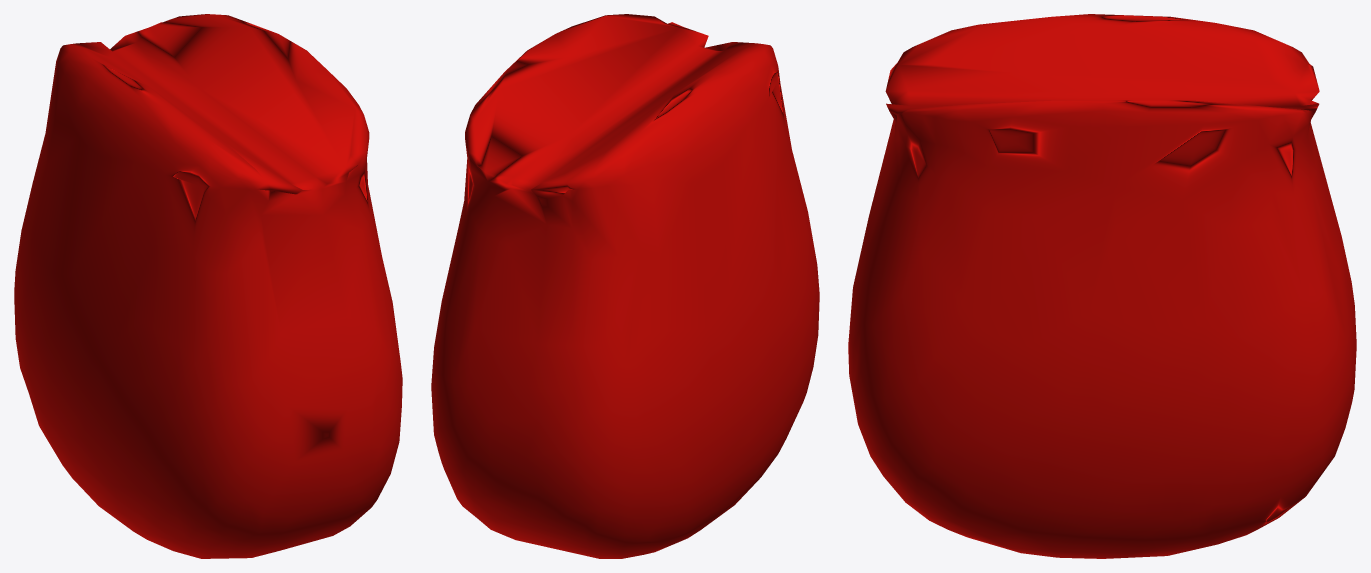
The model's file is comida_animal.glb.
The picture shows the model from 3 angles, left to right: view 1: azimuth 30°, elevation 25°; view 2: azimuth 150°, elevation 25°; view 3: azimuth 270°, elevation 25°; orthographic projection. The views are drawn at different scales.
Parts seen in each view (by area): view 1: Cube; view 2: Cube; view 3: Cube.
Part boxes in pixels (x1,y1,x2,y2): Cube: (14, 14, 402, 558); Cube: (431, 14, 819, 558); Cube: (848, 14, 1356, 558).
Size of the model in its own units: 1.1 by 1.83 by 1.75.
